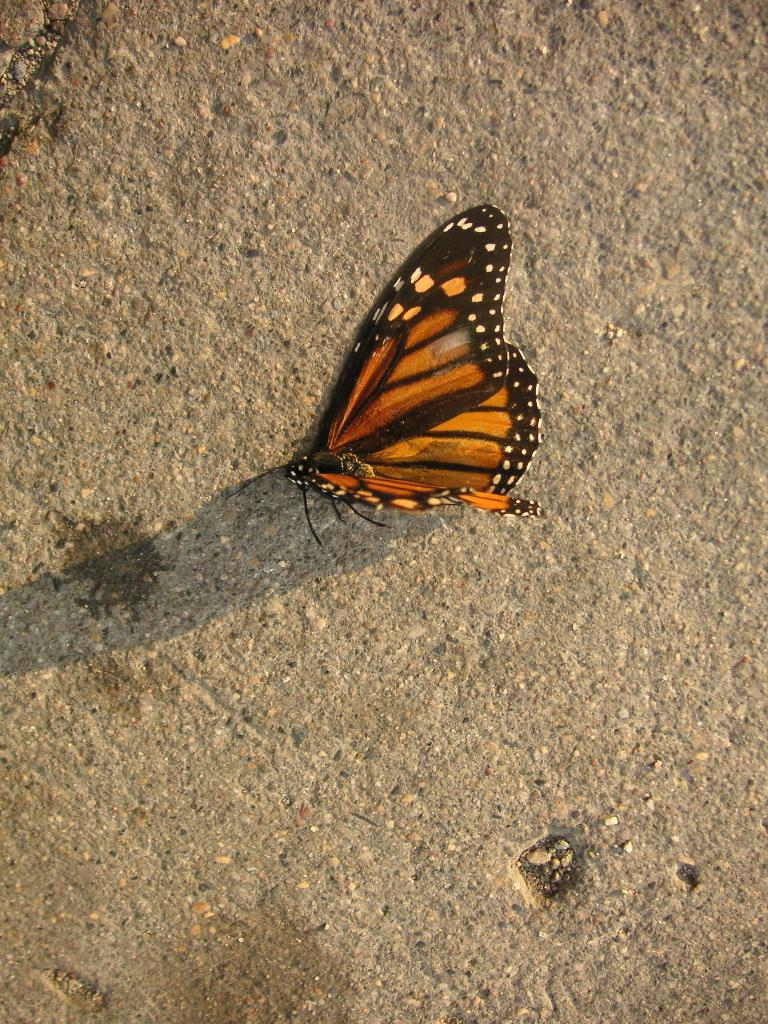Butterfly: (268, 191, 561, 558)
